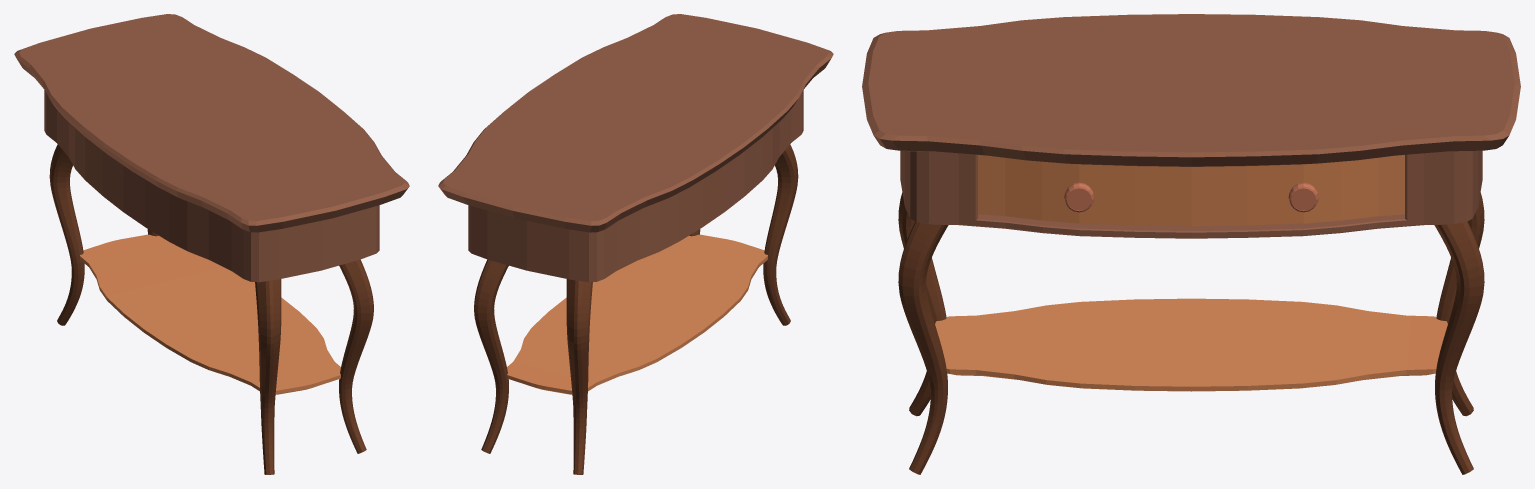
Rendered from Tisch Groß.glb.
3 views of the same model, side by side, from view 1: azimuth 30°, elevation 25°; view 2: azimuth 150°, elevation 25°; view 3: azimuth 270°, elevation 25° (orthographic). The views are drawn at different scales.
Visible parts, largest first — view 1: Tisch Ablage.003; view 2: Tisch Ablage.003; view 3: Tisch Ablage.003.
Boxes of the visible parts, bbox=[...] form: Tisch Ablage.003: bbox=[14, 14, 409, 474]; Tisch Ablage.003: bbox=[438, 14, 833, 474]; Tisch Ablage.003: bbox=[862, 14, 1520, 474].
Size of the model in its own units: 0.6527 by 0.7768 by 1.28.
1 material, 1 textured.
